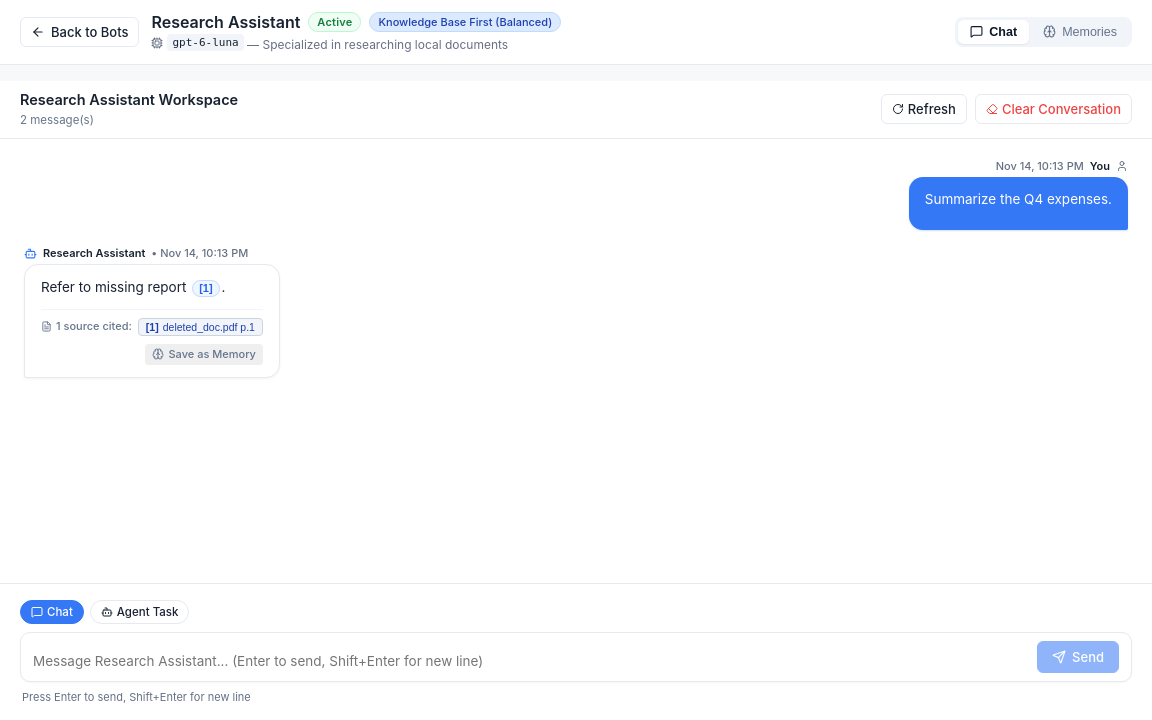
Test: Renderer: BotConversationsWorkspacePage Unified Single Conversation (Phase 12 Step 12.2) › 14. displays sanitized alert when citation resolution fails
The image size is (1152, 720).
Click the button with test id "citation-marker-1": (206,289) [192,280,220,297]
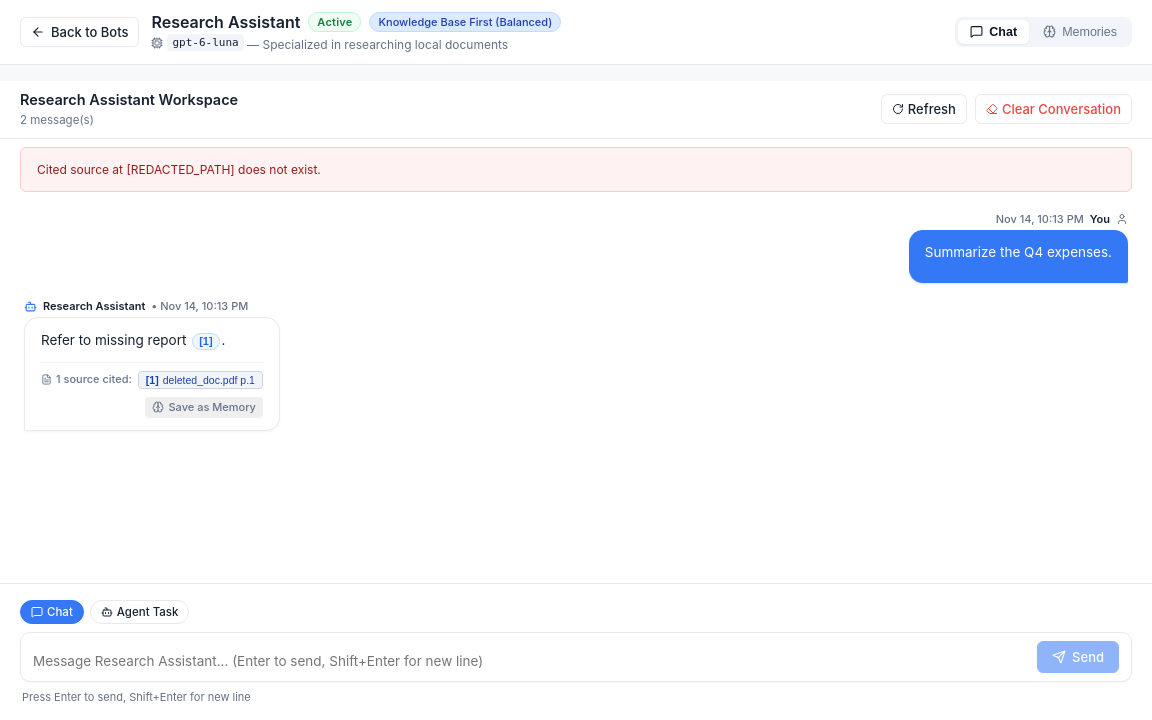
Expected: the message "Cited source at [REDACTED_PATH] does not exist." is shown, [20,146,1132,192]
Expected: the message with test id "citation-error-alert" shows "[REDACTED_PATH]", [37,162,321,176]
